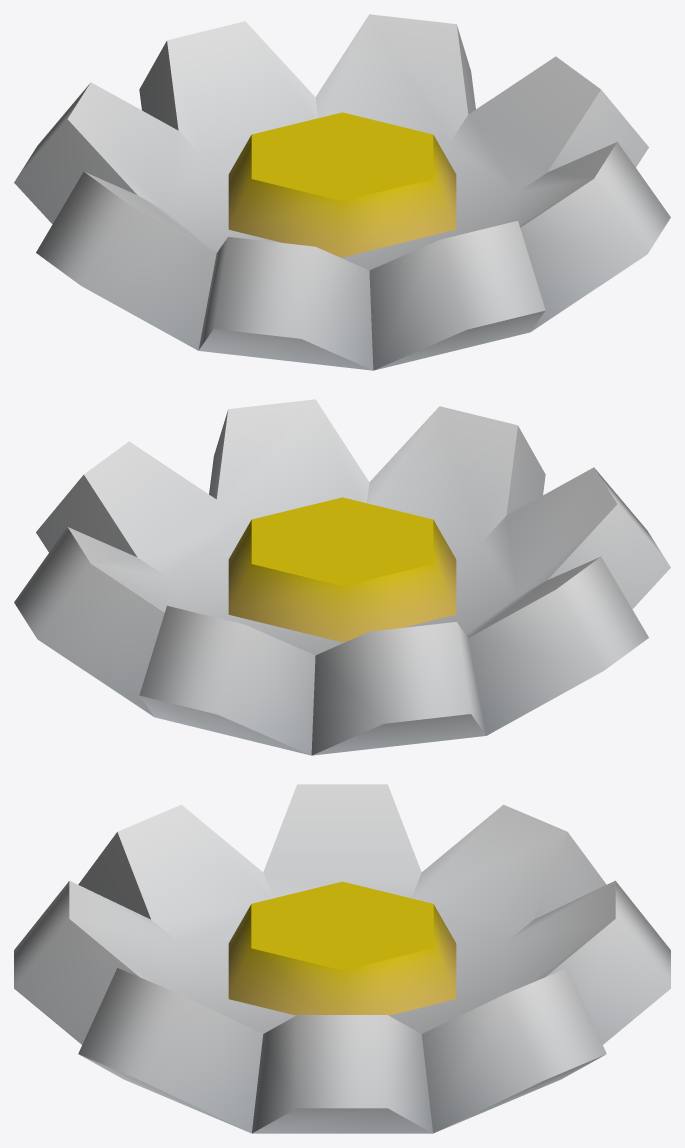
Rendered from flower-b.glb.
3 renders of one model, top to bottom at view 1: azimuth 30°, elevation 25°; view 2: azimuth 150°, elevation 25°; view 3: azimuth 270°, elevation 25°, orthographic.
Parts seen in each view (by area): view 1: flower-b; view 2: flower-b; view 3: flower-b.
Boxes of the visible parts, x1=… form: flower-b: x1=14, y1=14, x2=670, y2=370; flower-b: x1=14, y1=399, x2=670, y2=755; flower-b: x1=14, y1=784, x2=670, y2=1133.
Bounding box in the file's own units: 0.1195 × 0.0284 × 0.1195.
